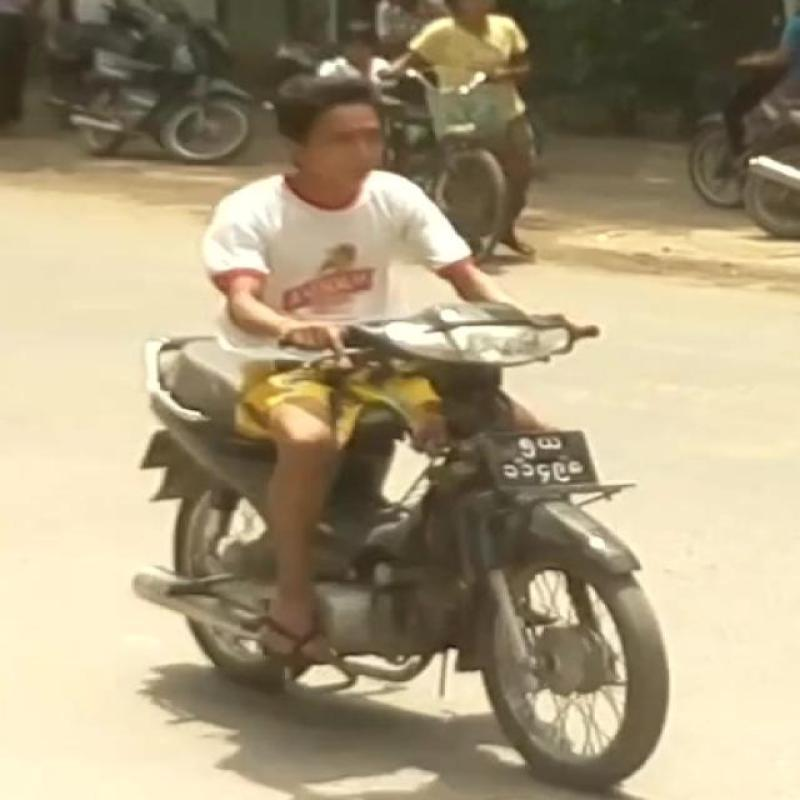nohelmet: (255, 58, 436, 172)
